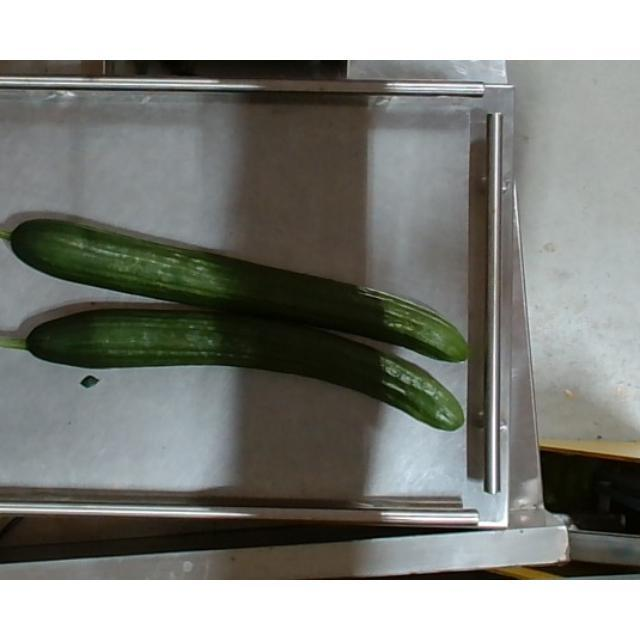cucumber: (1, 218, 472, 364), (1, 308, 466, 434)
